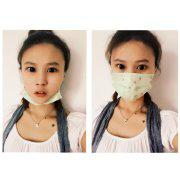OK: (110, 57, 156, 101)
WRONG: (20, 55, 63, 106)
